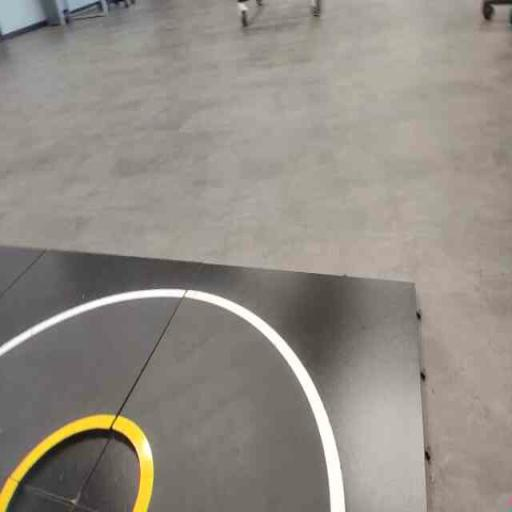left: (71, 265, 405, 511)
